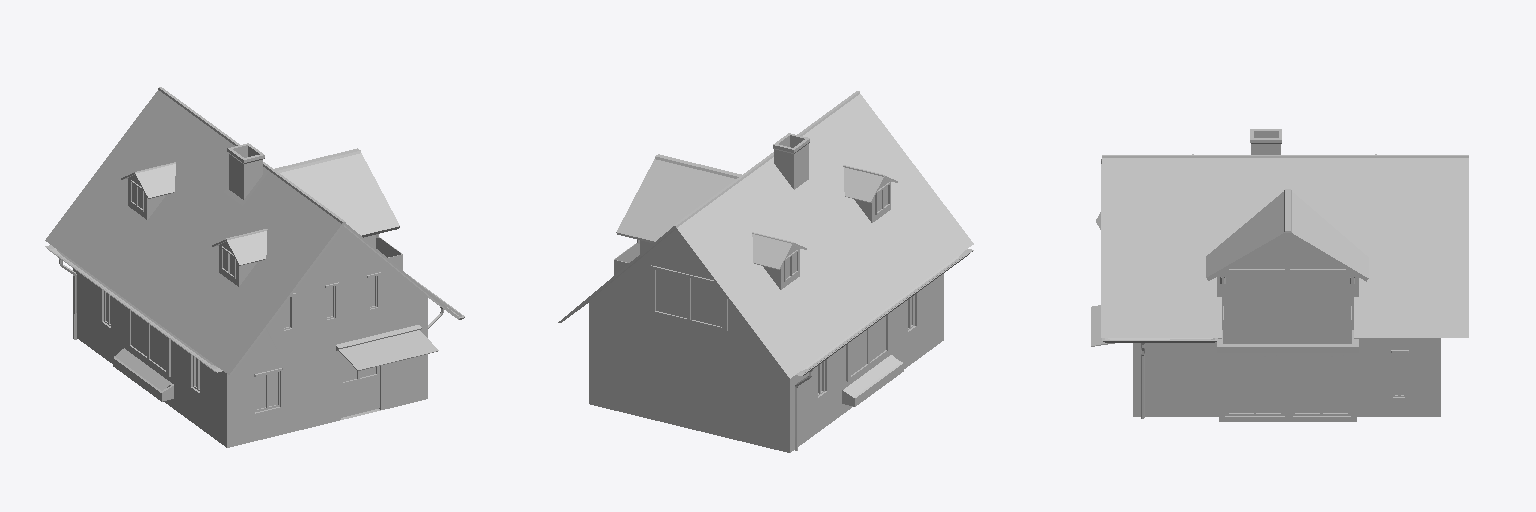
Rendered from house6.obj.
The picture shows the model from 3 angles: view 1: azimuth 30°, elevation 25°; view 2: azimuth 150°, elevation 25°; view 3: azimuth 270°, elevation 25°; orthographic projection.
Visible parts, largest first — view 1: City_building_013.001; view 2: City_building_013.001; view 3: City_building_013.001.
Part boxes in pixels (x1,y1,x2,y2): City_building_013.001: (45,87,464,447); City_building_013.001: (558,91,973,452); City_building_013.001: (1091,129,1468,421).
Size of the model in its own units: 1.65 by 1.46 by 2.2.